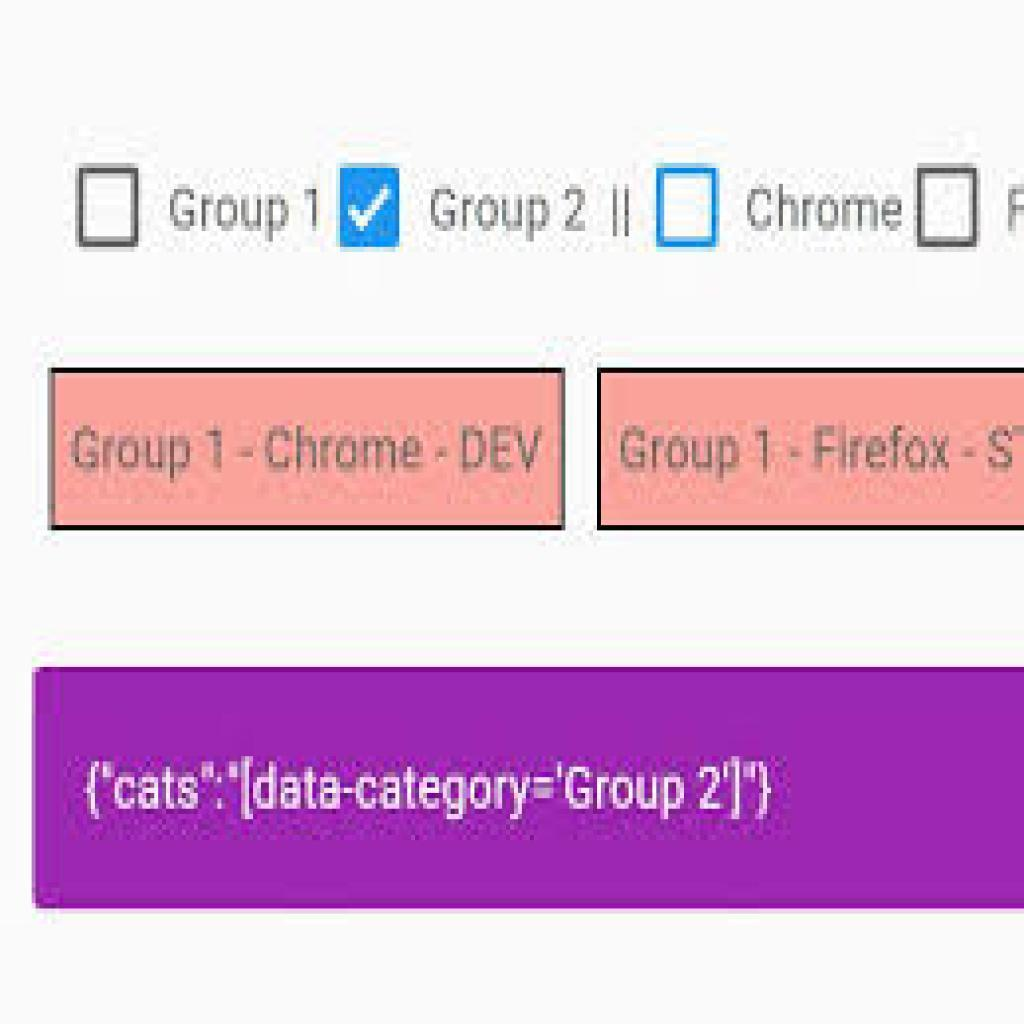checkbox: (659, 168, 720, 248), (79, 169, 142, 246), (342, 168, 400, 248), (919, 168, 977, 246)
label: (429, 180, 633, 246), (745, 184, 912, 242), (169, 184, 322, 242)
